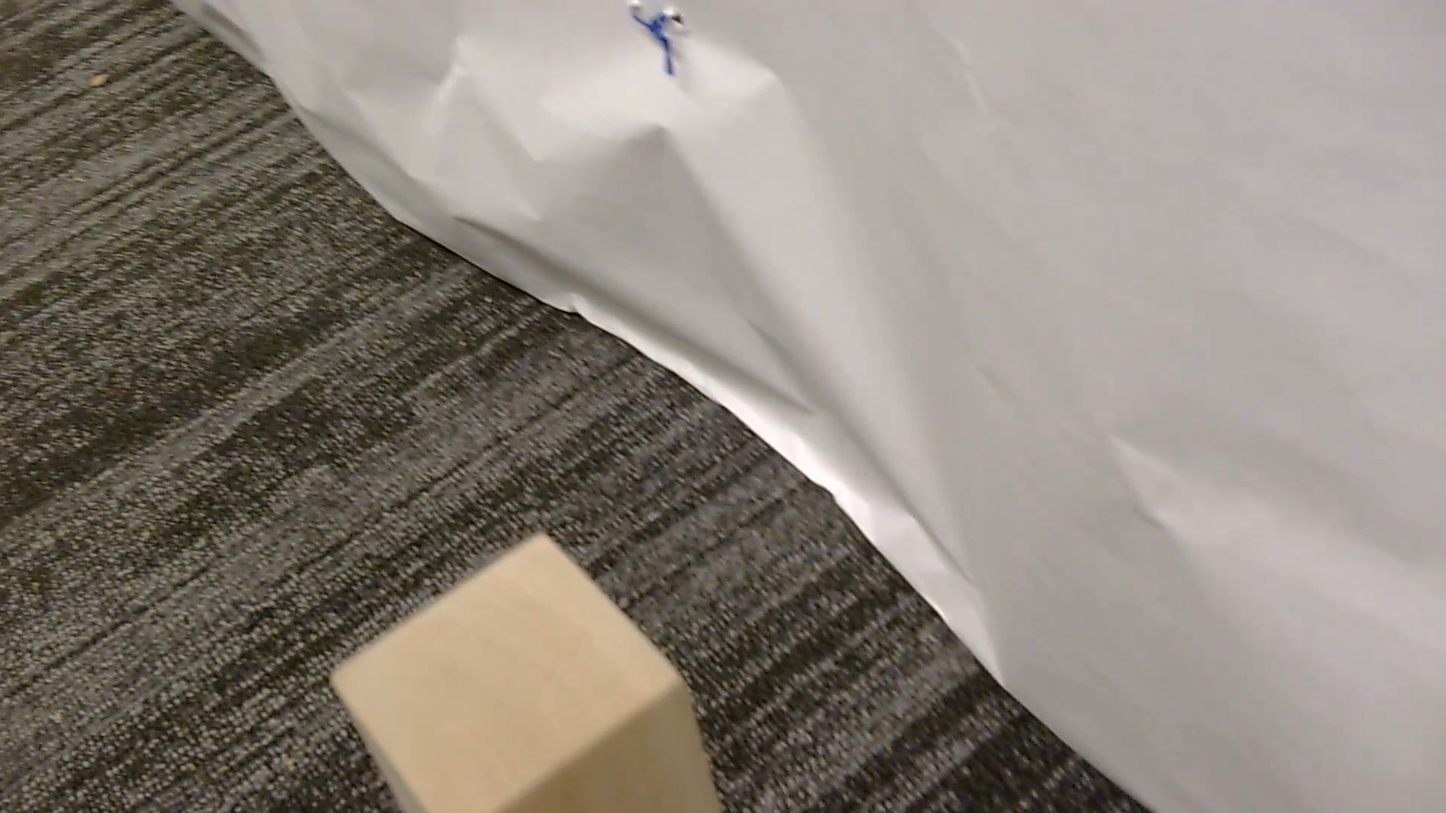Wooden Block: (333, 535, 721, 812)
